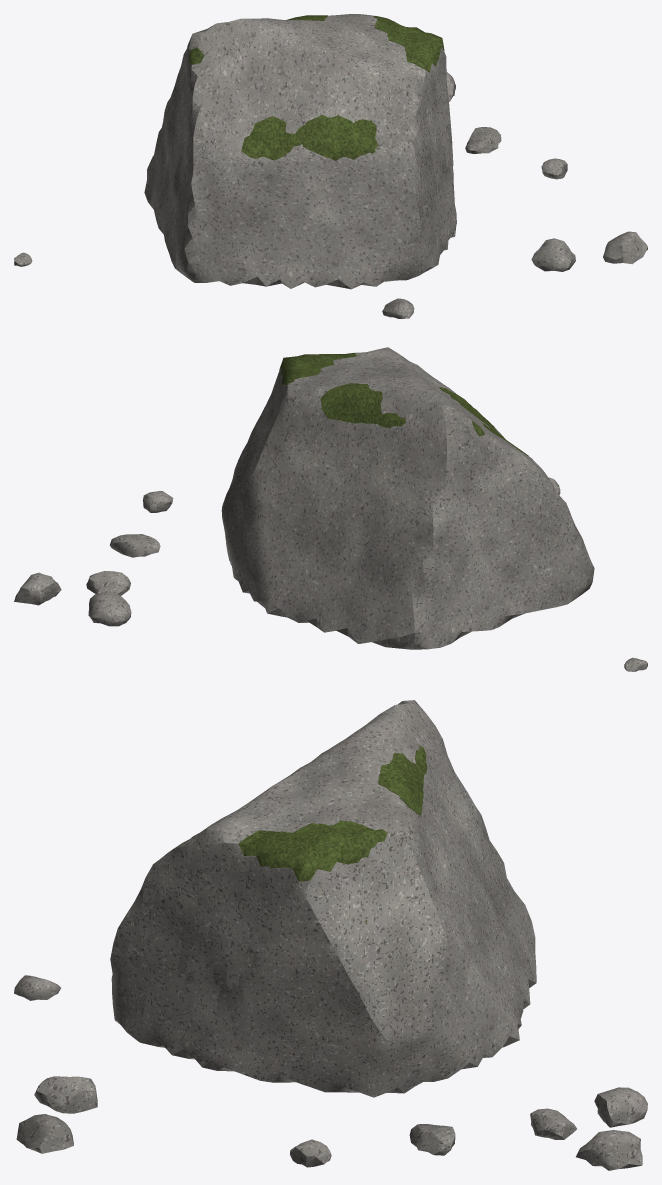
Rendered from GraniteBoulder.glb.
3 renders of one model, top to bottom at view 1: azimuth 30°, elevation 25°; view 2: azimuth 150°, elevation 25°; view 3: azimuth 270°, elevation 25°, orthographic. The views are drawn at different scales.
Visible parts, largest first — view 1: Granite_Boulder; view 2: Granite_Boulder; view 3: Granite_Boulder.
Boxes of the visible parts, bbox=[...] form: Granite_Boulder: bbox=[14, 14, 647, 318]; Granite_Boulder: bbox=[14, 347, 647, 671]; Granite_Boulder: bbox=[14, 700, 647, 1170].
Bounding box in the file's own units: 3.33 × 1.25 × 2.69.
Materials: 2 (2 with a texture image).
